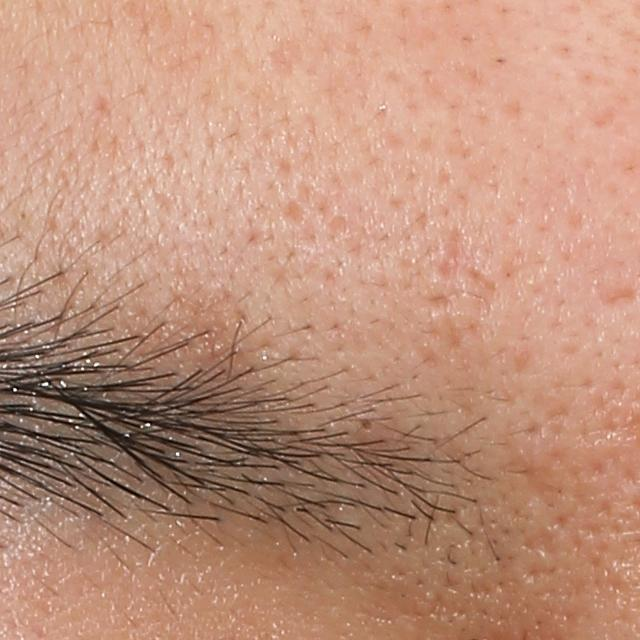atrophic_scar: (433, 225, 501, 295), (266, 25, 311, 79), (597, 286, 636, 308)
comedo: (352, 412, 381, 434)
